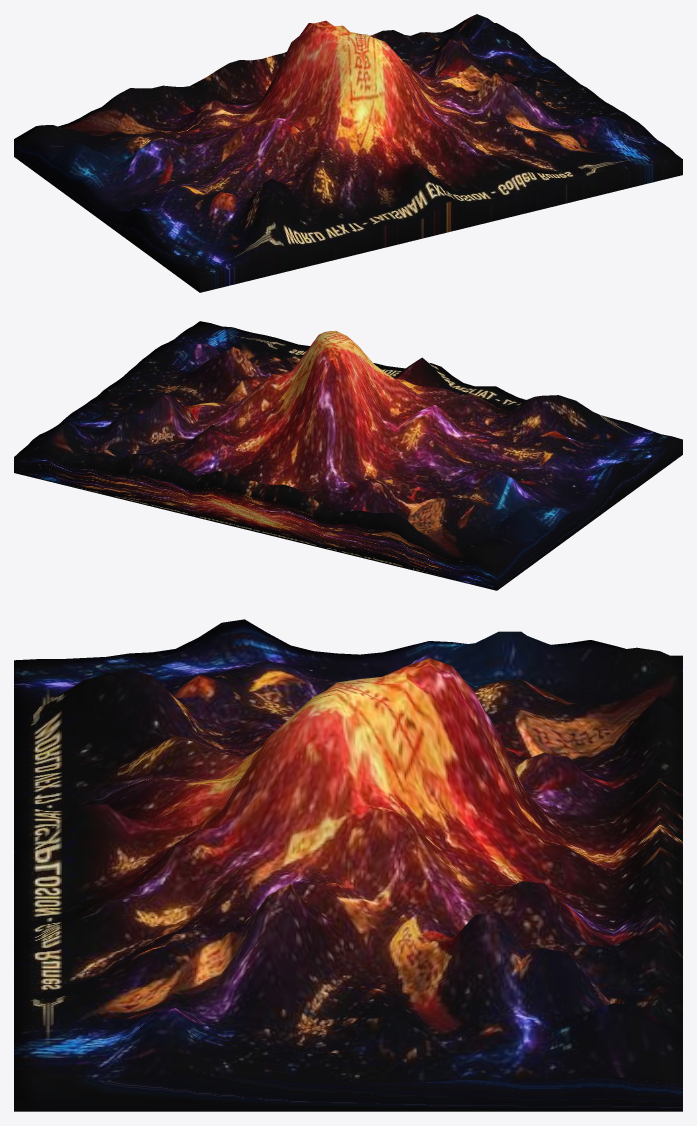
The model's file is WORLD_VFX_17_Talisman_Explosion.glb.
The picture shows the model from 3 angles, top to bottom: view 1: azimuth 30°, elevation 25°; view 2: azimuth 150°, elevation 25°; view 3: azimuth 270°, elevation 25°; orthographic projection. The views are drawn at different scales.
Visible parts, largest first — view 1: WORLD_VFX_17_Talisman_Explosion; view 2: WORLD_VFX_17_Talisman_Explosion; view 3: WORLD_VFX_17_Talisman_Explosion.
Part boxes in pixels (x1,y1,x2,y2): WORLD_VFX_17_Talisman_Explosion: [14, 14, 682, 292]; WORLD_VFX_17_Talisman_Explosion: [14, 321, 682, 590]; WORLD_VFX_17_Talisman_Explosion: [14, 619, 682, 1111].
Size of the model in its own units: 2 by 0.51 by 1.33.
1 material, 1 textured.
